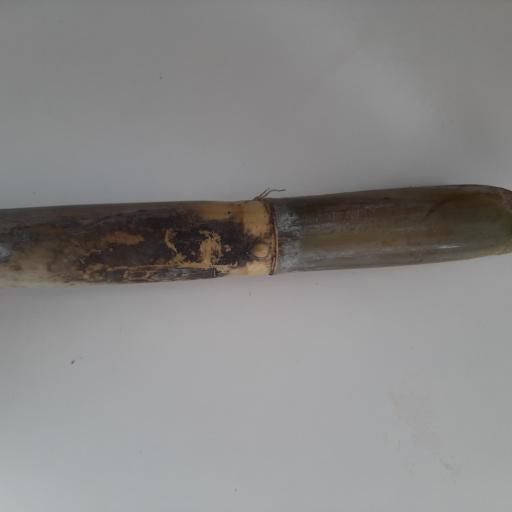Bud: (242, 239, 274, 259)
